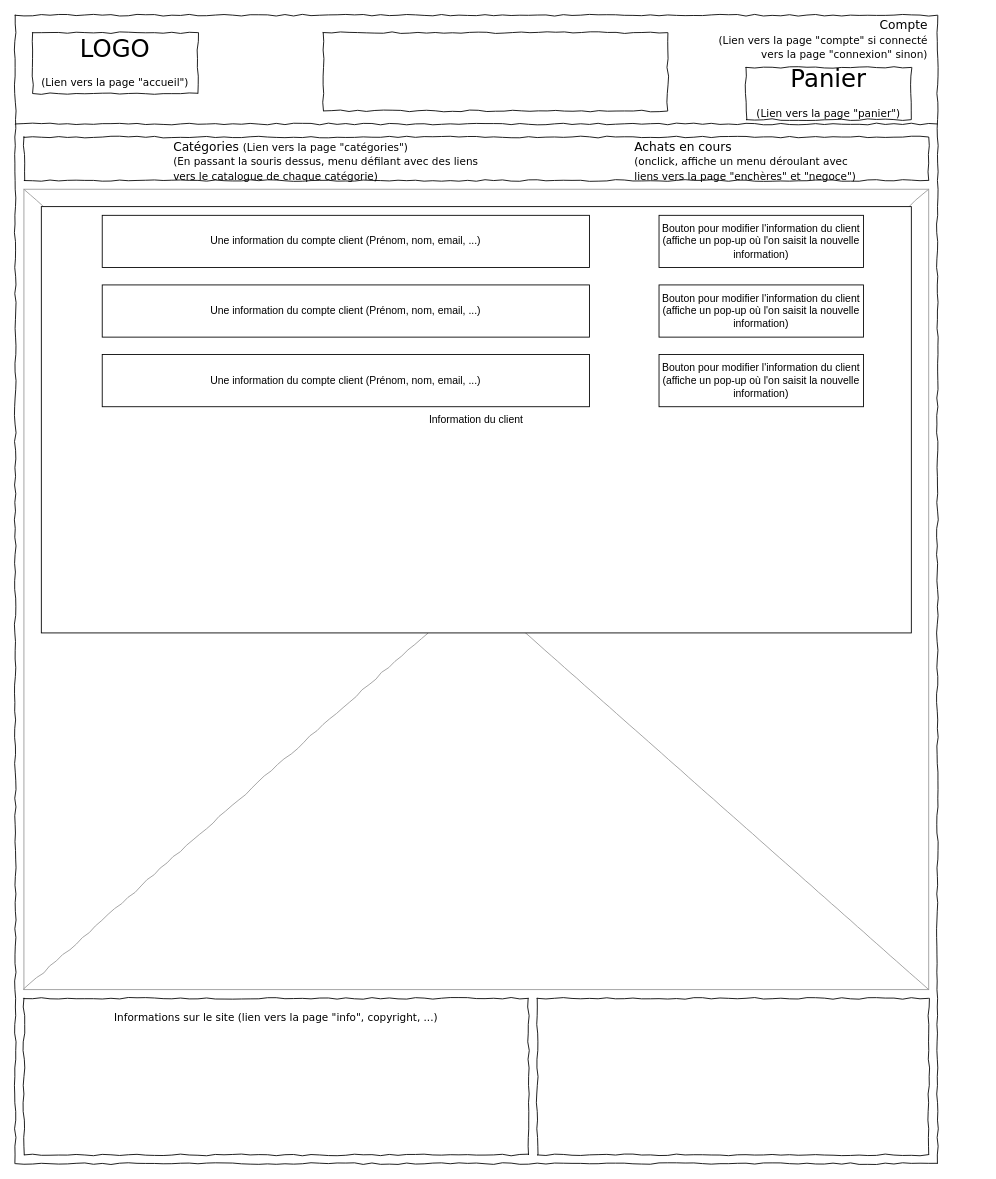
The diagram is 996 pixels wide and 1179 high, and some of its shapes have lost their labels. The centre of each missing label's shape, as x and y in pixels:
"Bienvenue ..." goes at [495,71].
"Nous contacter" goes at [732,1076].
